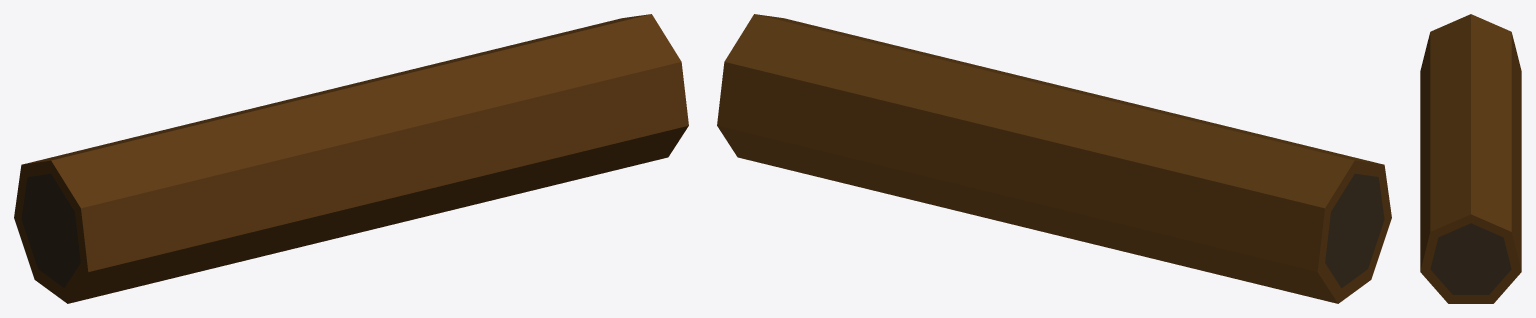
Rendered from log_02.fbx.
3 renders of one model, left to right at view 1: azimuth 30°, elevation 25°; view 2: azimuth 150°, elevation 25°; view 3: azimuth 270°, elevation 25°, orthographic. The views are drawn at different scales.
Visible parts, largest first — view 1: LOG_3; view 2: LOG_3; view 3: LOG_3.
Boxes of the visible parts, <box> form: LOG_3: <box>14,14,688,303</box>; LOG_3: <box>717,14,1391,303</box>; LOG_3: <box>1420,14,1521,303</box>.
Size of the model in its own units: 647 by 135 by 139.
